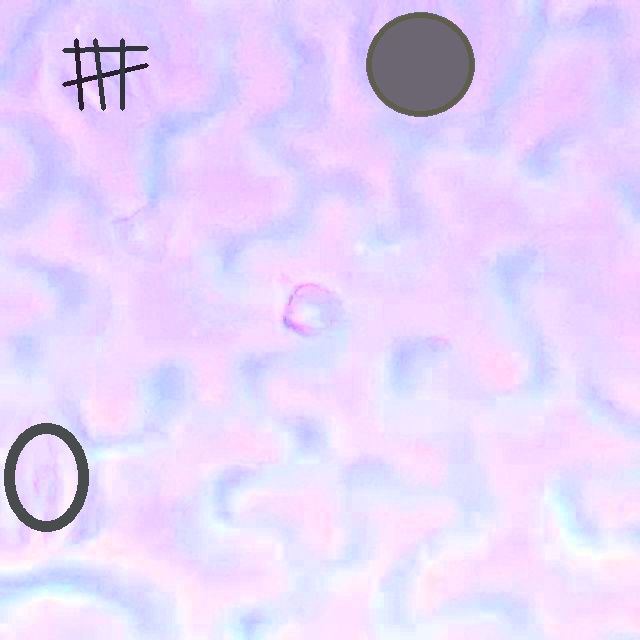open: (366, 13, 474, 116), (4, 424, 89, 530), (63, 38, 147, 109)
